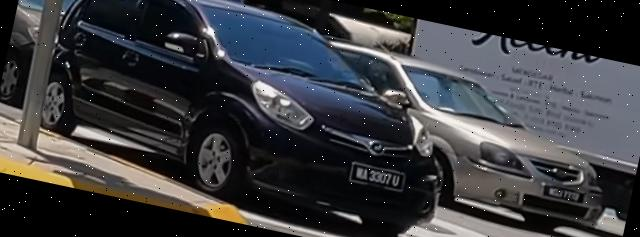License_Plate: (349, 164, 404, 192), (543, 184, 586, 205)
car: (28, 1, 472, 237), (298, 37, 628, 237)
